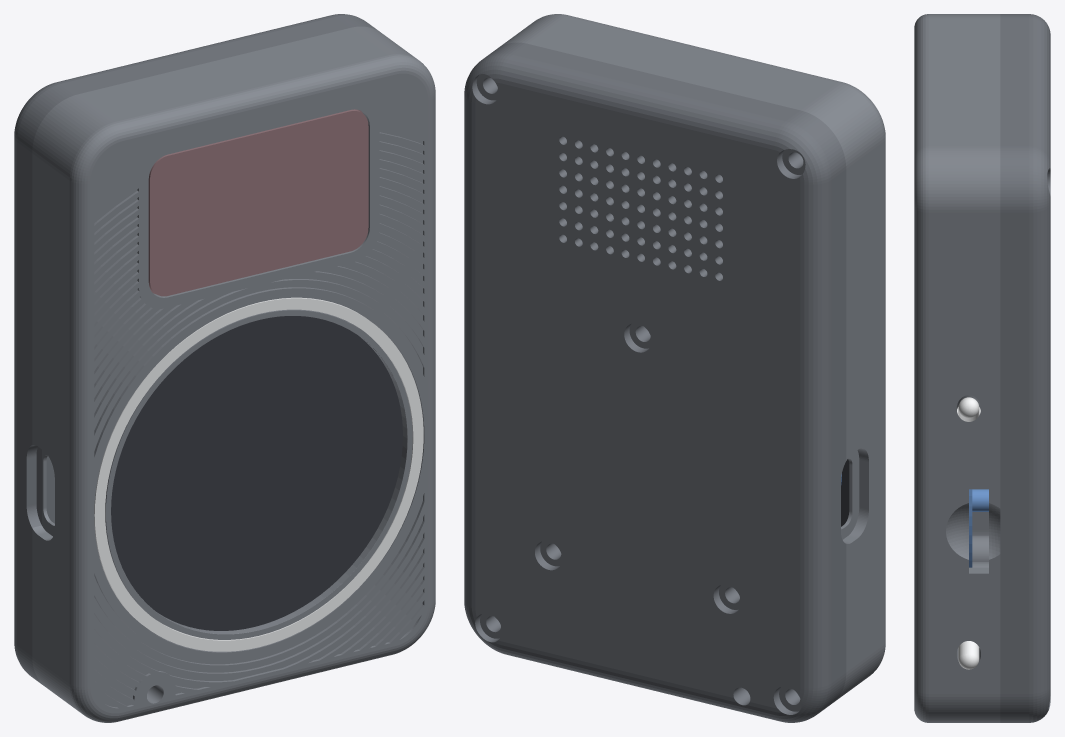
Rendered from case.glb.
3 views of the same model, side by side, from view 1: azimuth 30°, elevation 25°; view 2: azimuth 150°, elevation 25°; view 3: azimuth 270°, elevation 25° (orthographic). The views are drawn at different scales.
Parts seen in each view (by area): view 1: front_shell, screen, gps_window, back_shell, inlay_ring; view 2: back_shell, front_shell; view 3: front_shell, back_shell, ghost_board, plunger_boot, plunger_pwr.
Boxes of the visible parts, x1,y1,x2,y2 form: front_shell: (32,26,435,722); screen: (111,316,402,630); gps_window: (148,109,368,296); back_shell: (14,14,379,685); inlay_ring: (94,297,423,651); back_shell: (464,42,846,722); front_shell: (500,14,885,701); front_shell: (914,14,1000,722); back_shell: (1000,14,1050,722); ghost_board: (969,489,988,567); plunger_boot: (958,641,979,669); plunger_pwr: (957,397,980,421).
Size of the model in its own units: 58.11 by 88 by 19.02.
